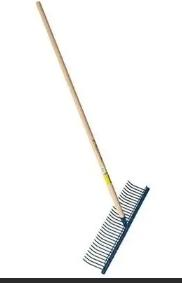RATEAU: (36, 0, 182, 283)
